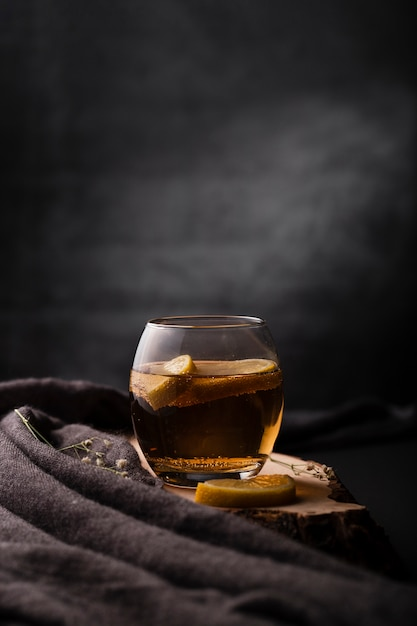alcohol: (124, 314, 292, 489)
